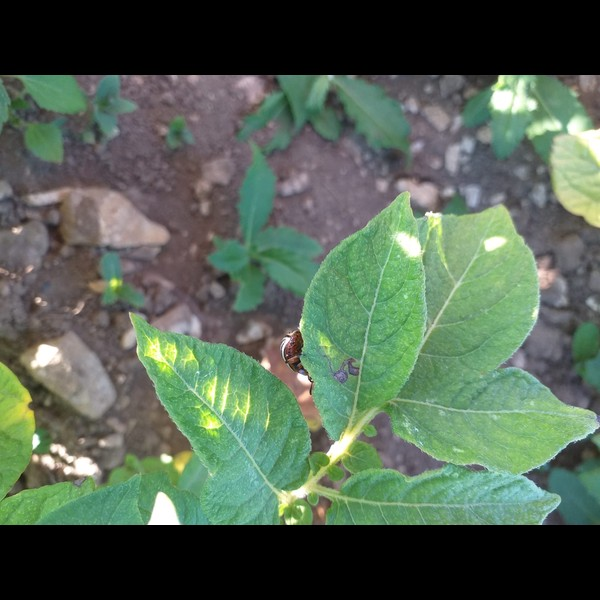hrosc: (280, 326, 315, 377)
